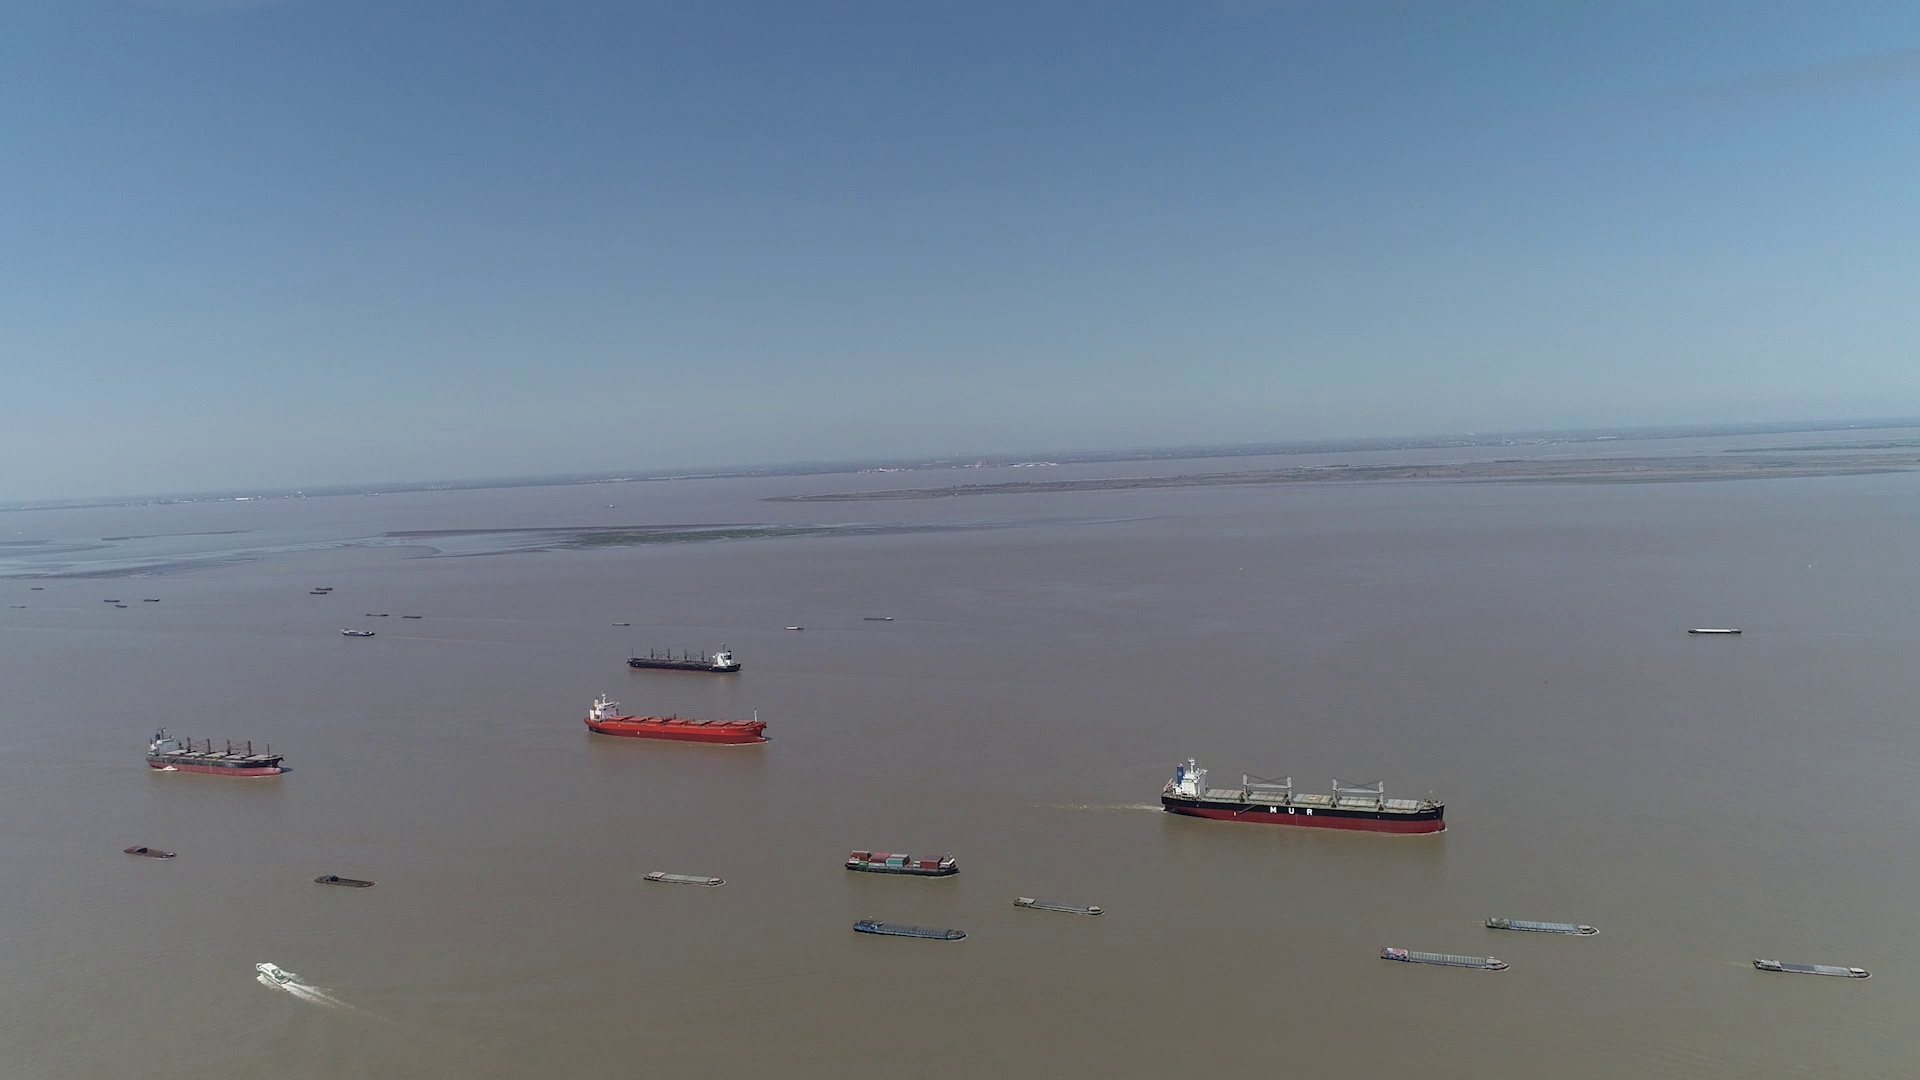ship: (1158, 758, 1445, 833), (585, 695, 767, 744), (150, 727, 284, 775), (625, 644, 742, 673), (843, 848, 957, 876), (1378, 947, 1510, 971), (1753, 956, 1873, 978), (852, 919, 967, 940), (1485, 914, 1598, 935), (1013, 894, 1102, 915), (644, 872, 723, 887), (256, 963, 293, 986), (316, 876, 373, 889), (124, 845, 175, 858), (1689, 626, 1741, 636), (340, 629, 376, 637)
